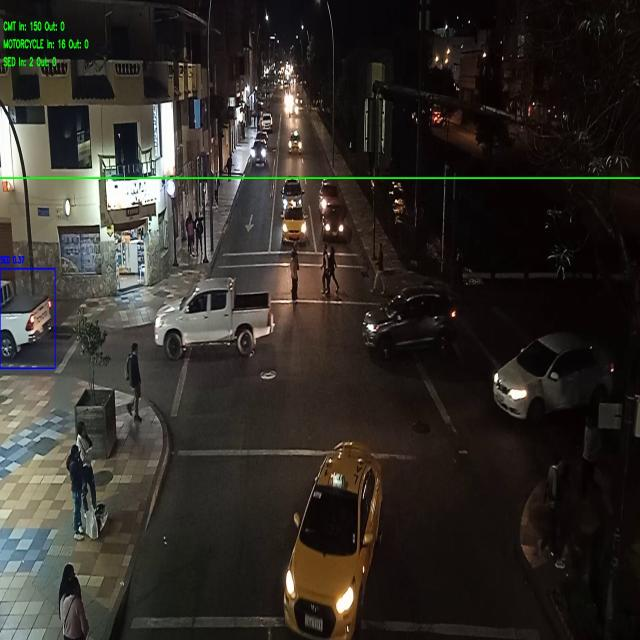CMT: (157, 284, 270, 348), (0, 279, 52, 357)
SED: (495, 334, 573, 414), (283, 208, 306, 242)
SUV: (366, 289, 456, 348), (253, 141, 266, 163), (262, 114, 273, 133)
